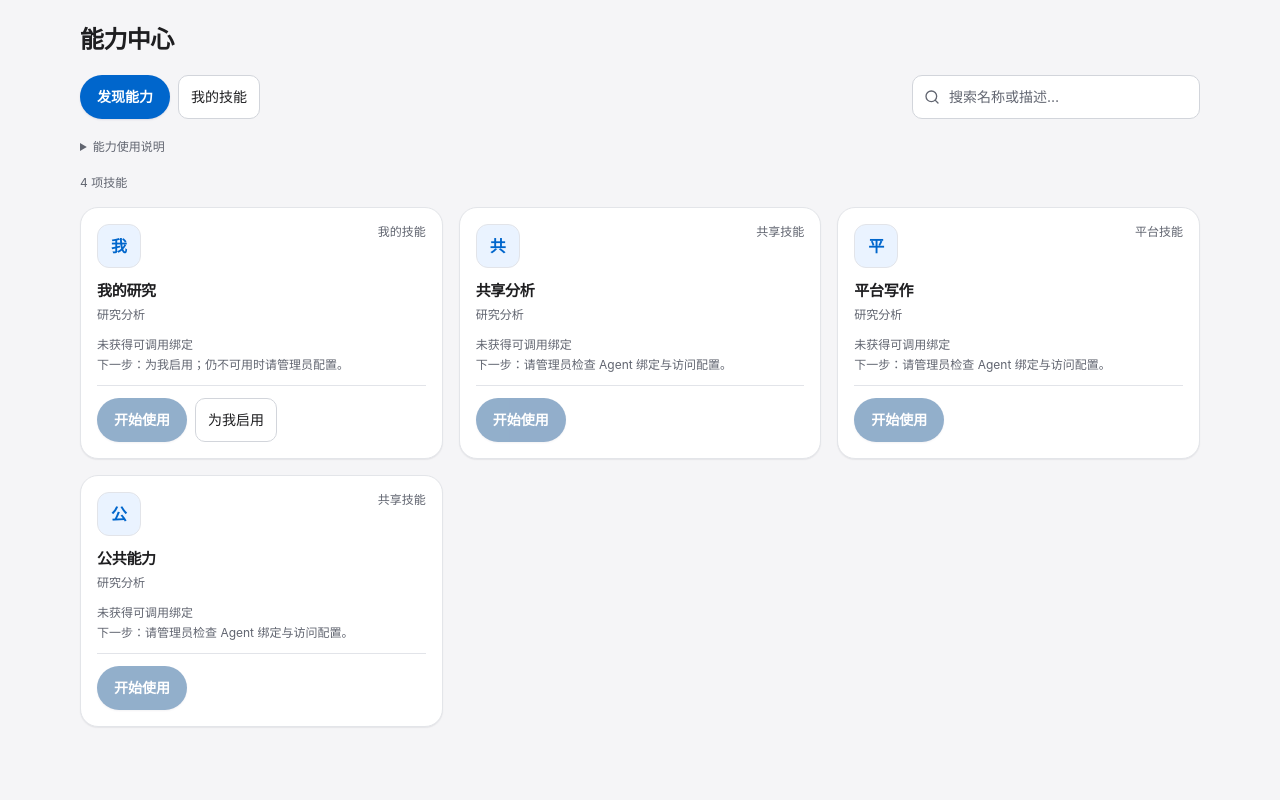
Scenario: 能力中心 › 个人启用重新 GET 并合并完整 profile，保留其他绑定与最新 information
Expected: the element "我的研究" is shown, [80,207,443,459]
Click the button "为我启用" at {"x": 236, "y": 420}, box [195,398,277,442]
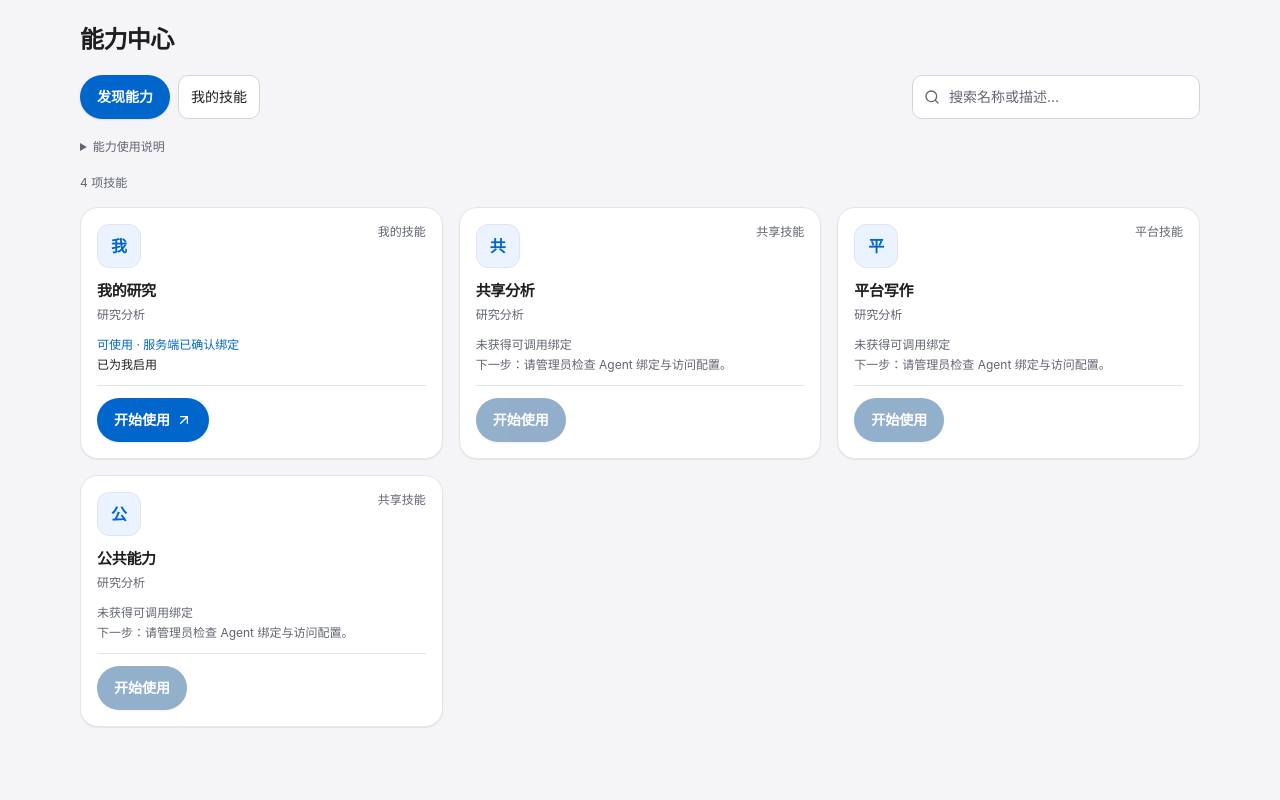
Expected: the text "已为我启用" is shown, [97,357,157,372]
